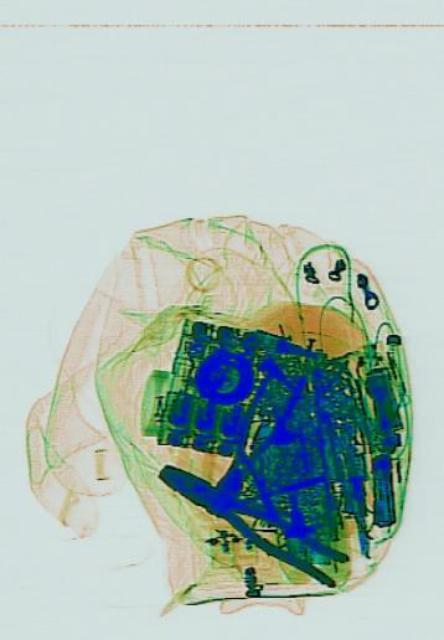Pliers: (151, 445, 346, 593), (208, 348, 306, 508)
